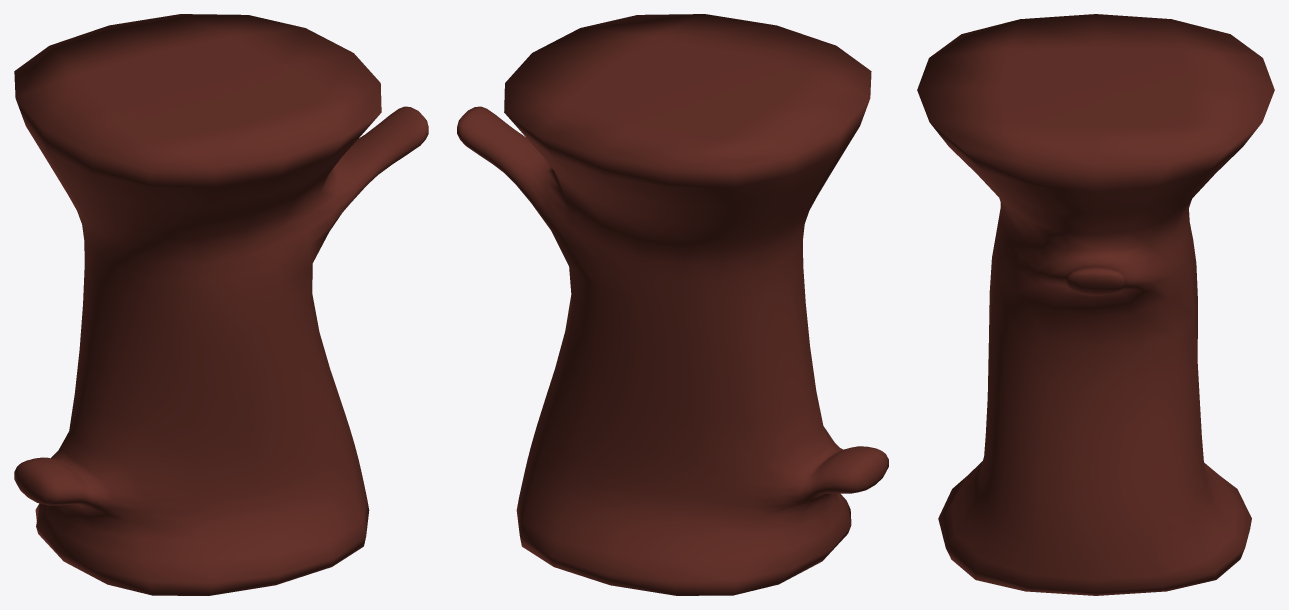
Rendered from log-1.fbx.
3 views of the same model, side by side, from view 1: azimuth 30°, elevation 25°; view 2: azimuth 150°, elevation 25°; view 3: azimuth 270°, elevation 25° (orthographic).
Visible parts, largest first — view 1: log-1; view 2: log-1; view 3: log-1.
Part boxes in pixels (x1,y1,x2,y2): log-1: [14, 14, 428, 595]; log-1: [457, 14, 888, 595]; log-1: [917, 14, 1274, 595].
Bounding box in the file's own units: 313 × 329 × 240.
